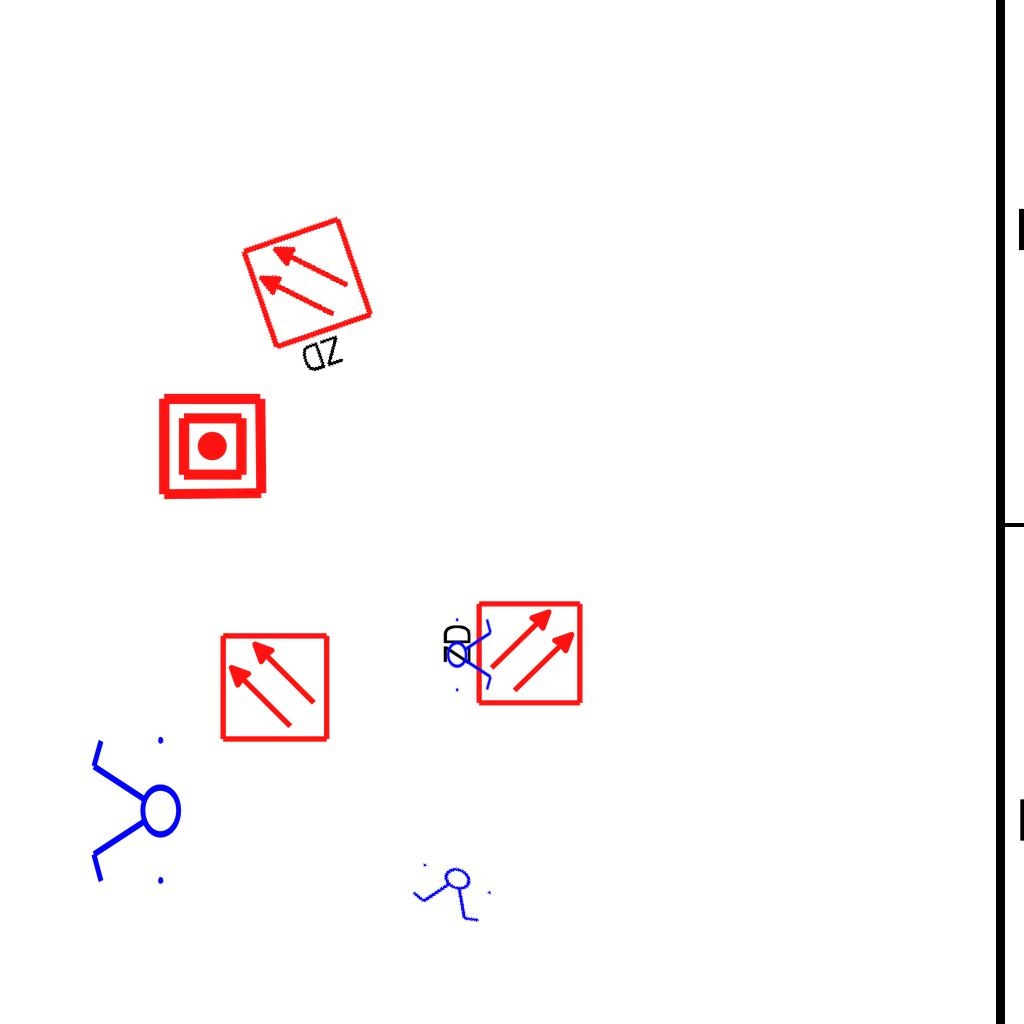NAM-Nichtautomatischer_Melder: (156, 390, 269, 503)
RMO_Rauchmelder_optischer: (218, 631, 331, 744)
Serienschalter: (87, 728, 183, 896), (404, 852, 502, 930), (446, 612, 494, 696)
ZD_Melder_in_Zwischendecke_mit_Revisionsoeffnung_mind_40_x_40_cm: (236, 211, 394, 390), (436, 598, 585, 712)
